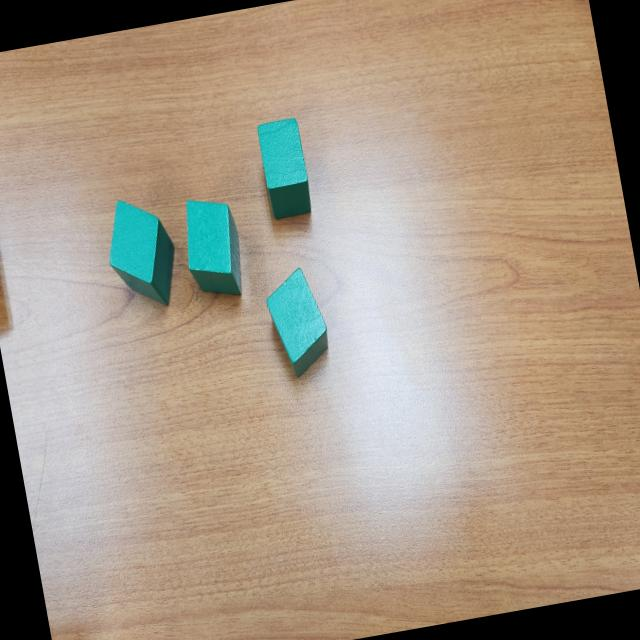green: (98, 192, 184, 315), (260, 265, 335, 380), (178, 192, 248, 303), (254, 116, 314, 222)
